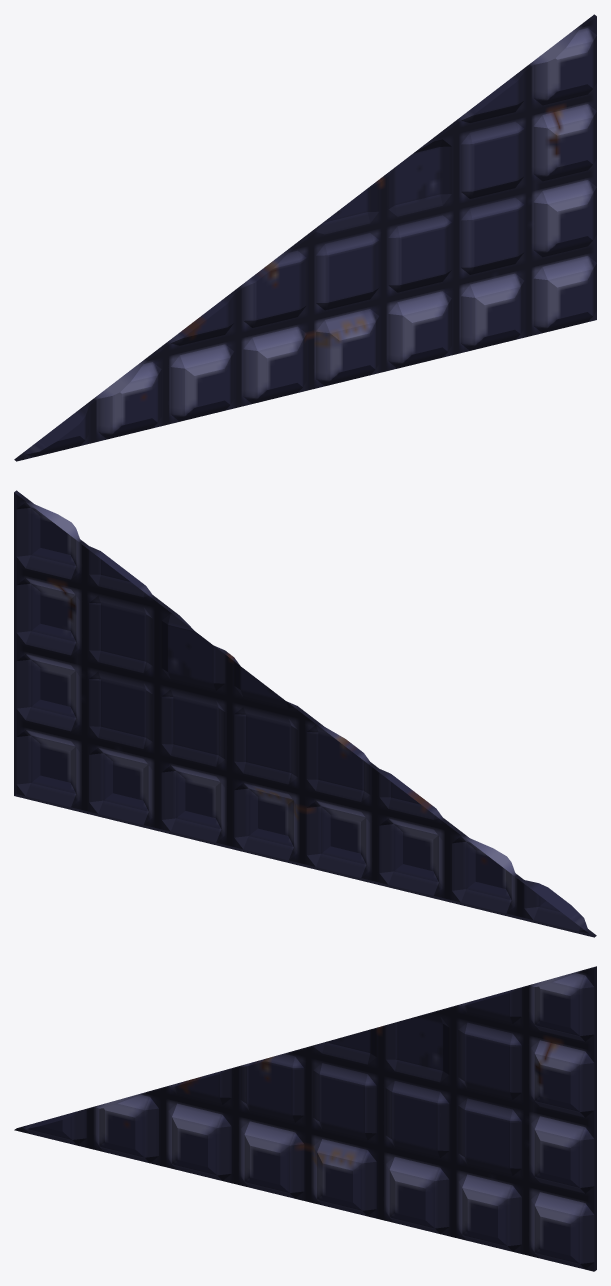
File: med1_1_slice128high.fbx
3 renders of one model, top to bottom at view 1: azimuth 30°, elevation 25°; view 2: azimuth 150°, elevation 25°; view 3: azimuth 330°, elevation 25°, orthographic.
Visible parts, largest first — view 1: med1_1_slice128high_mesh; view 2: med1_1_slice128high_mesh; view 3: med1_1_slice128high_mesh.
Part boxes in pixels (x1,y1,x2,y2): med1_1_slice128high_mesh: (14,14,596,461); med1_1_slice128high_mesh: (14,490,596,937); med1_1_slice128high_mesh: (14,966,596,1271).
Size of the model in its own units: 256 by 128 by 7.5.
